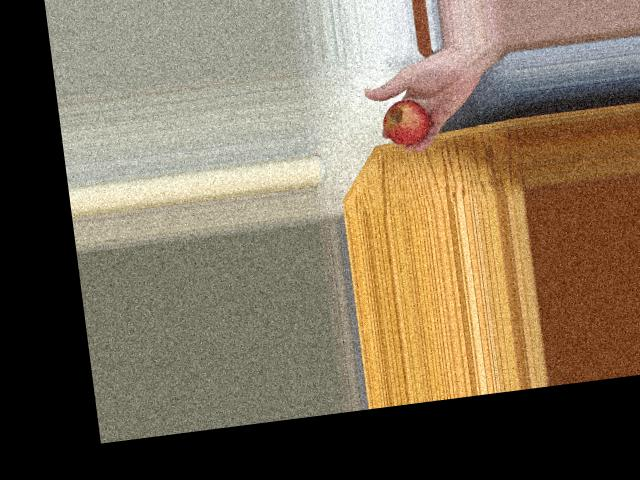apple: (377, 96, 440, 149)
